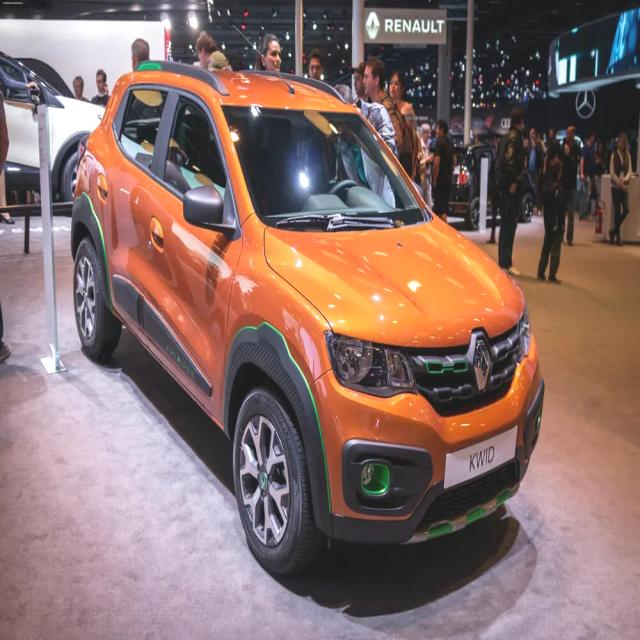SUV: (70, 60, 548, 579)
